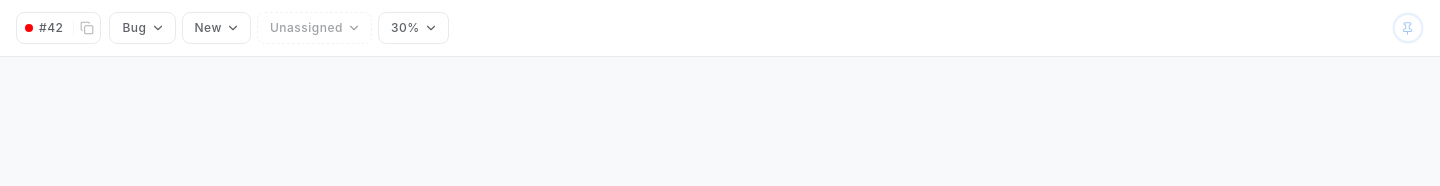
TicketCardHeader › current status NOT in allowedStatuses still visible in dropdown
The image size is (1440, 186).
Click the button "New" at (216, 28), box [182,12,251,44]
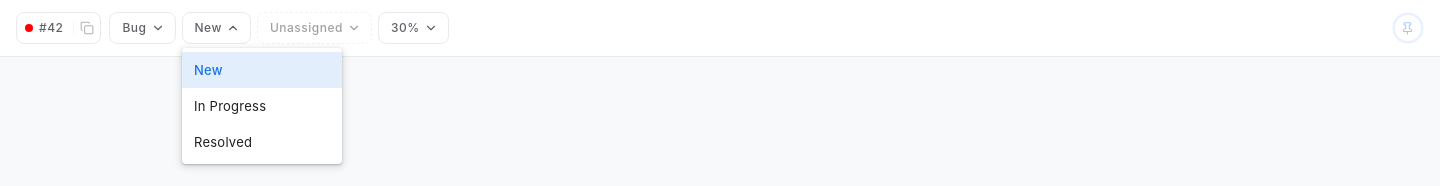
Result: the option "In Progress" is shown at [194,98,266,114]
Result: the option "Resolved" is shown at [194,134,252,150]
